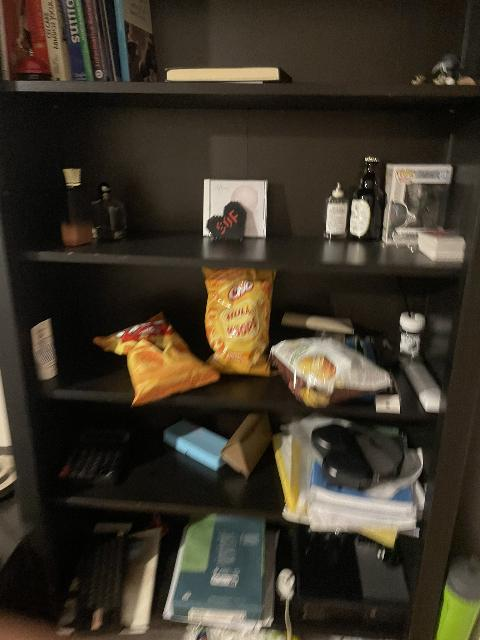Chio Cascaval 125g: (93, 313, 221, 408)
Chio Hula Hoops Cheese 70g: (200, 272, 278, 370)
Lays Beef Grilled Ribs 125g: (268, 336, 388, 408)
